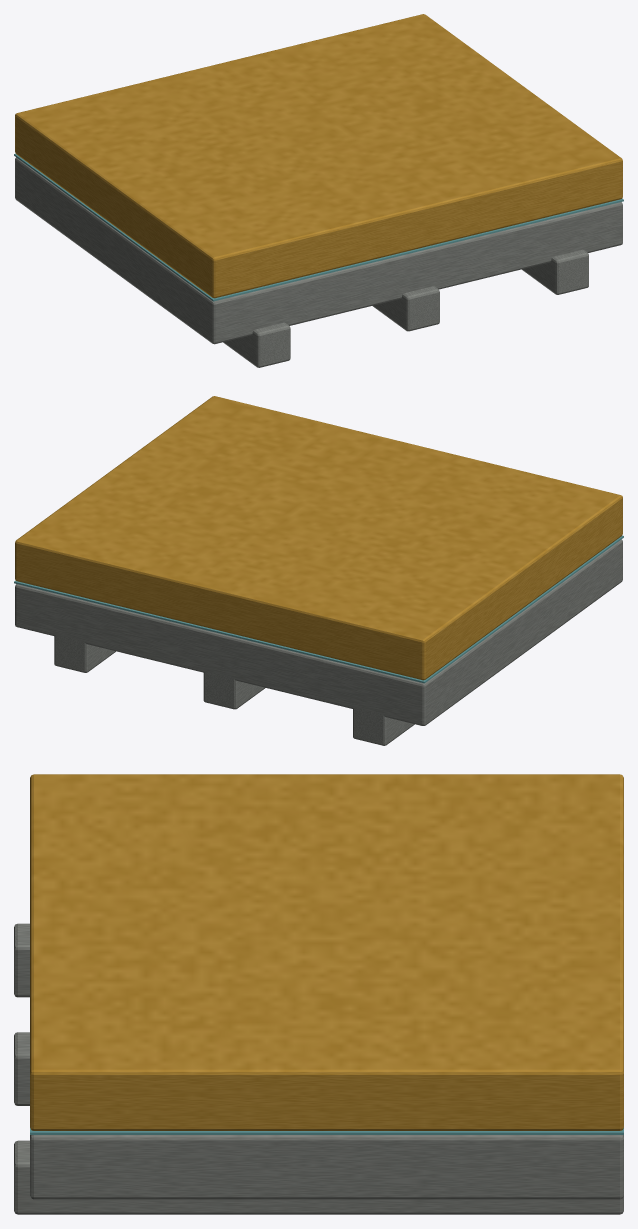
File: modell.glb
3 views of the same model, one above another, from view 1: azimuth 30°, elevation 25°; view 2: azimuth 150°, elevation 25°; view 3: azimuth 270°, elevation 25° (orthographic). The views are drawn at different scales.
Visible parts, largest first — view 1: g02-daemmung_daemmung, g02-untergrund_tragwerk, g02-unterlage_tragwerk, g02-luftdichtheit_luftdichtheit; view 2: g02-daemmung_daemmung, g02-untergrund_tragwerk, g02-unterlage_tragwerk, g02-luftdichtheit_luftdichtheit; view 3: g02-daemmung_daemmung, g02-untergrund_tragwerk, g02-unterlage_tragwerk, g02-luftdichtheit_luftdichtheit.
Part boxes in pixels (left/top/right/bottom): g02-daemmung_daemmung: left=15, top=14, right=622, bottom=298; g02-untergrund_tragwerk: left=15, top=157, right=622, bottom=344; g02-unterlage_tragwerk: left=223, top=249, right=588, bottom=367; g02-luftdichtheit_luftdichtheit: left=14, top=153, right=623, bottom=301; g02-daemmung_daemmung: left=15, top=396, right=622, bottom=680; g02-untergrund_tragwerk: left=15, top=539, right=622, bottom=725; g02-unterlage_tragwerk: left=54, top=634, right=414, bottom=745; g02-luftdichtheit_luftdichtheit: left=14, top=535, right=623, bottom=683; g02-daemmung_daemmung: left=30, top=774, right=623, bottom=1130; g02-untergrund_tragwerk: left=30, top=1135, right=623, bottom=1199; g02-unterlage_tragwerk: left=14, top=923, right=623, bottom=1214; g02-luftdichtheit_luftdichtheit: left=30, top=1128, right=623, bottom=1134.
Size of the model in its own units: 2.2 by 0.595 by 1.9.
Materials: 3 (2 with a texture image).
